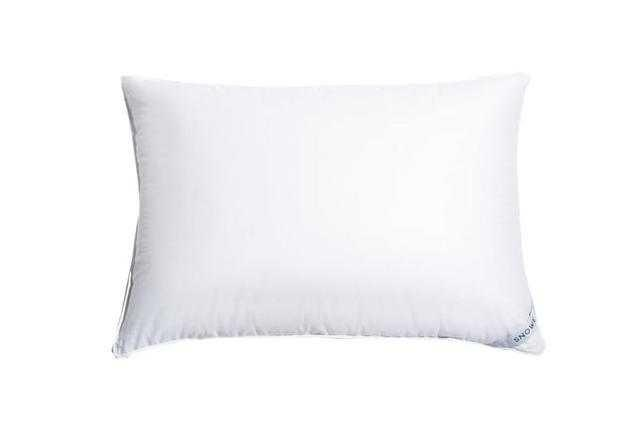pillow: (110, 70, 546, 358)
